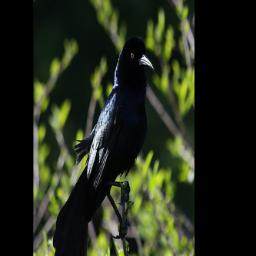Crow: (53, 33, 155, 256)
